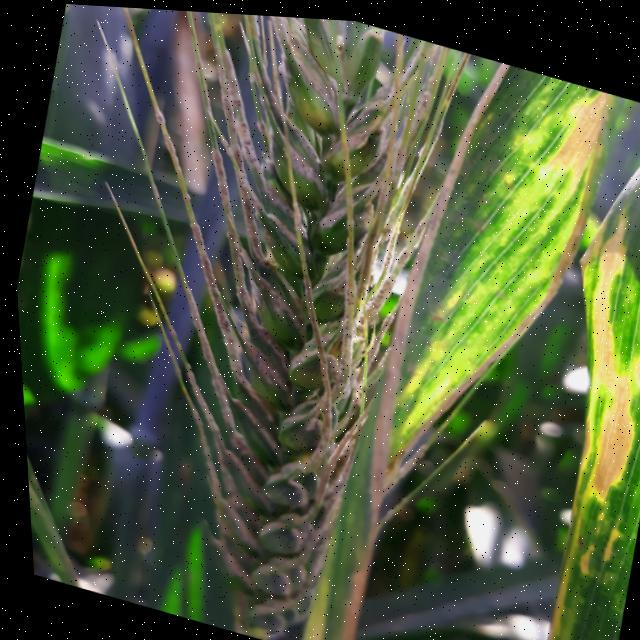powder_mildew: (0, 0, 535, 640), (454, 76, 640, 640), (374, 41, 611, 452)
